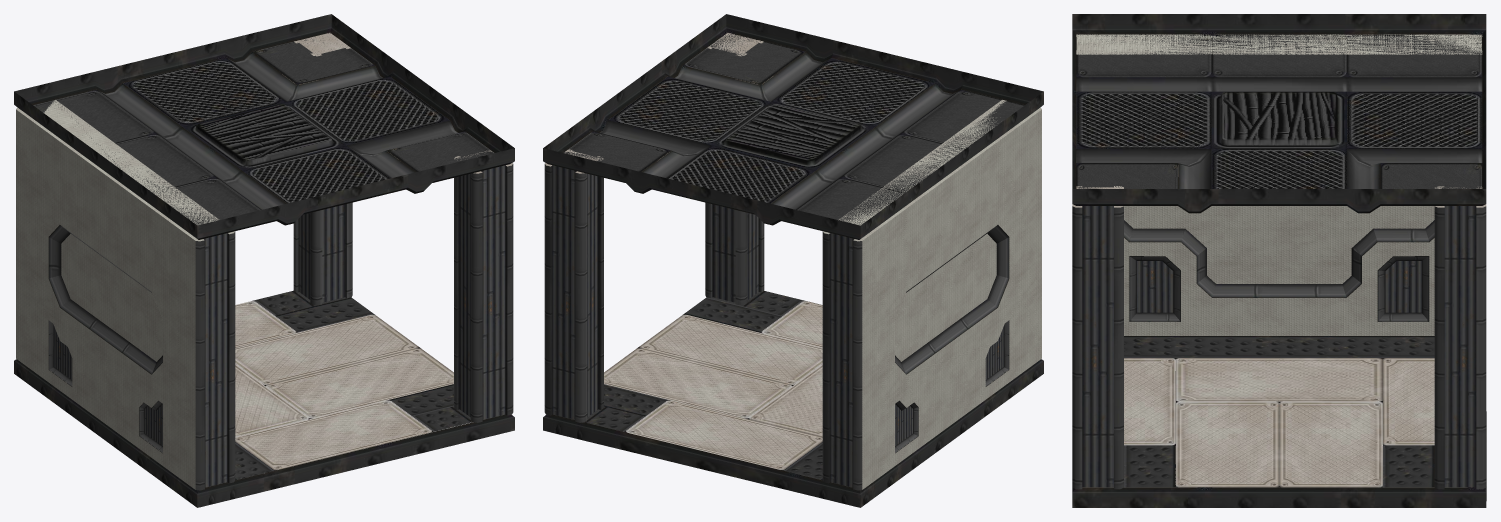
File: Corridor_Fork_Broken.fbx
The picture shows the model from 3 angles, left to right: view 1: azimuth 30°, elevation 25°; view 2: azimuth 150°, elevation 25°; view 3: azimuth 270°, elevation 25°; orthographic projection. The views are drawn at different scales.
Visible parts, largest first — view 1: Corridor_Fork_Broken; view 2: Corridor_Fork_Broken; view 3: Corridor_Fork_Broken.
Boxes of the visible parts, x1,y1,x2,y2 form: Corridor_Fork_Broken: (14,14,514,507); Corridor_Fork_Broken: (543,14,1043,507); Corridor_Fork_Broken: (1072,14,1486,507).
Bounding box in the file's own units: 400 × 340 × 400.
